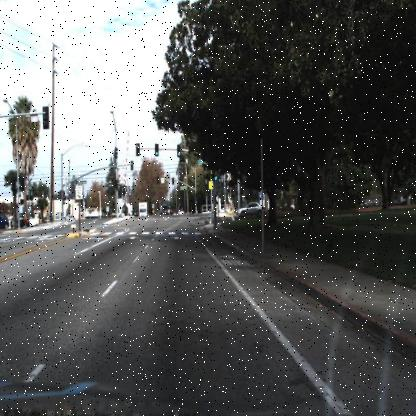car: (235, 200, 263, 218), (12, 210, 30, 228), (164, 206, 176, 222)
trafficLight-Green: (212, 168, 219, 182), (154, 141, 160, 157), (176, 143, 182, 158), (154, 143, 160, 156)
trafficLight-RedLeft: (134, 135, 141, 156), (135, 142, 140, 154)
truck: (136, 200, 150, 221)
